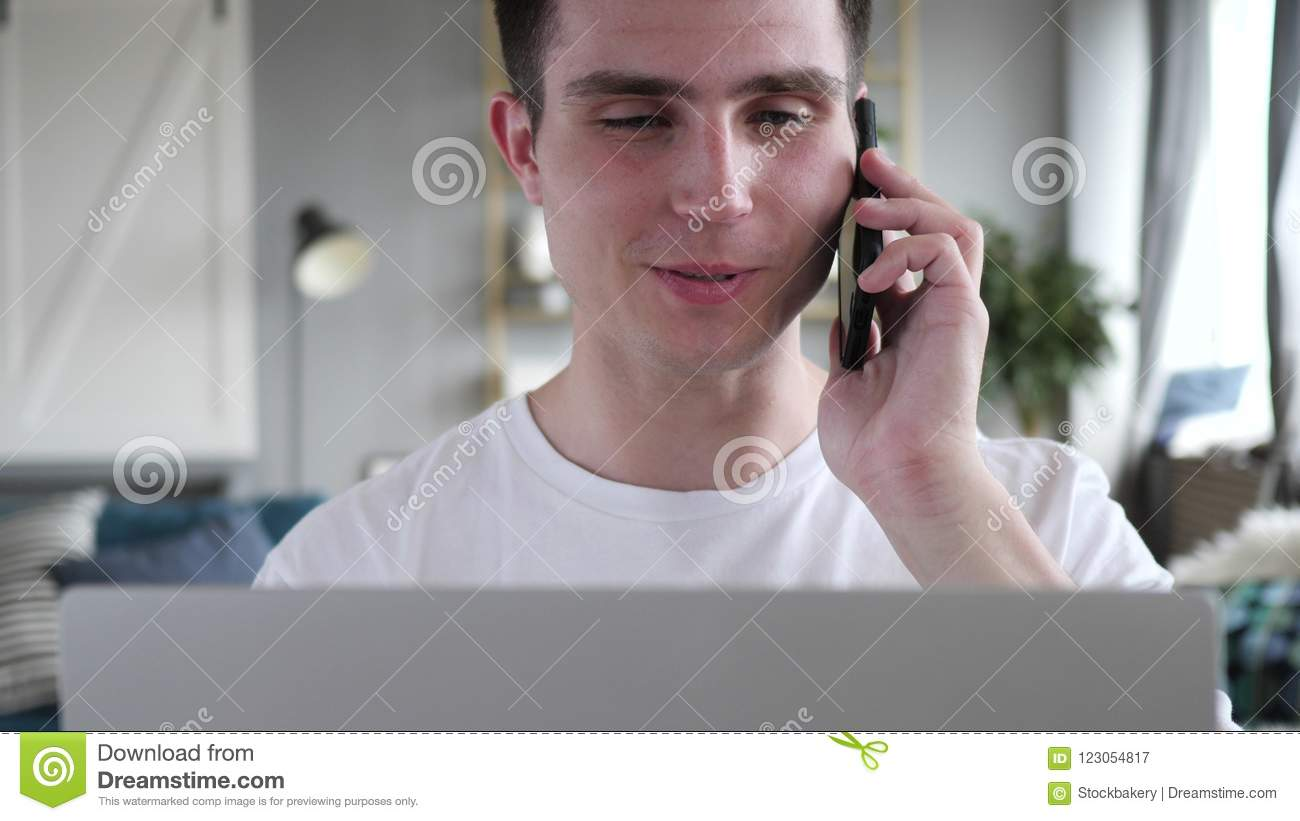phone: (829, 88, 893, 383)
talk: (564, 56, 989, 519)
